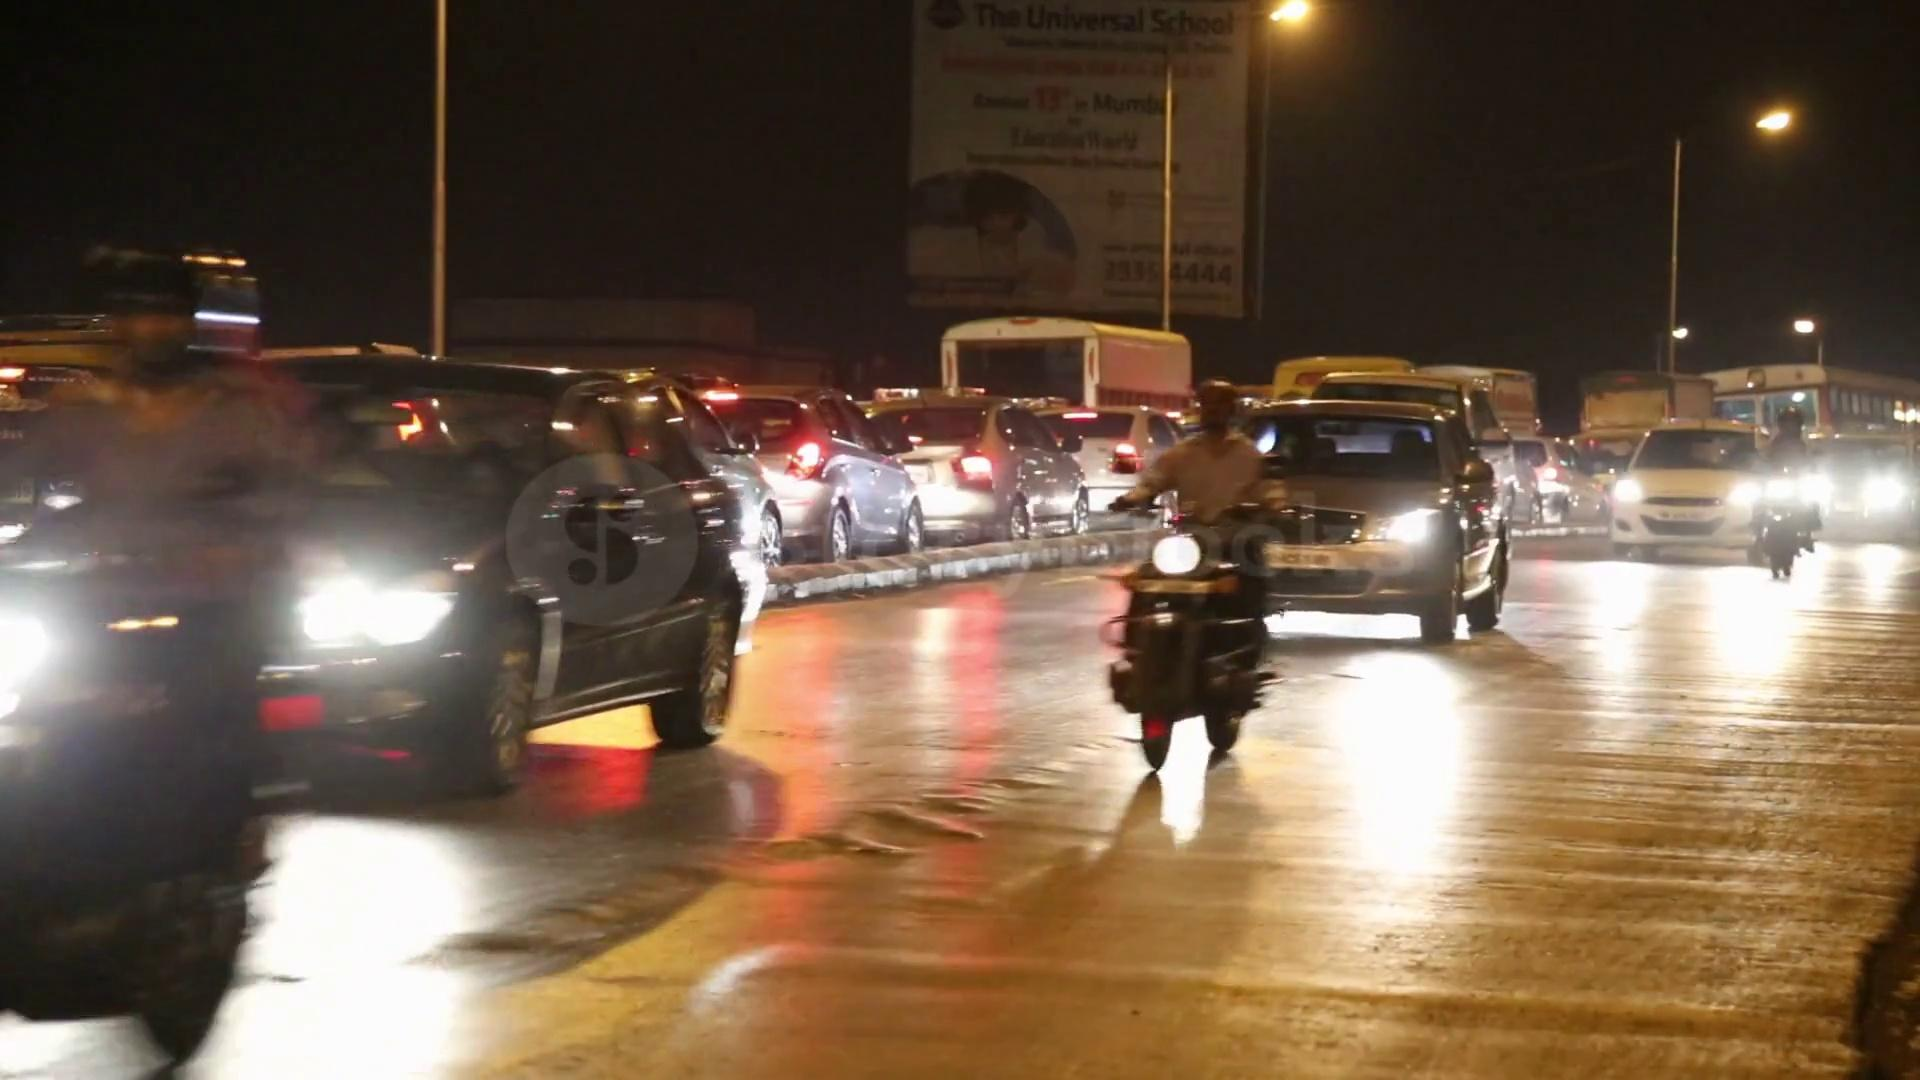rider: (9, 244, 279, 1060), (1105, 376, 1287, 754), (1753, 396, 1824, 587)
without_helmate: (1190, 379, 1233, 436)
